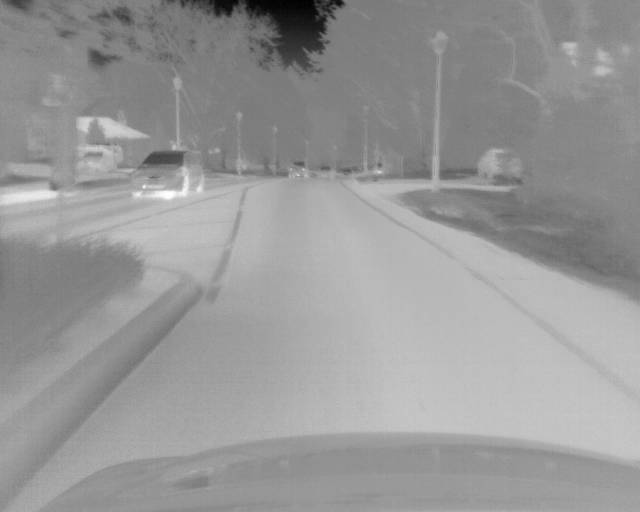car: (123, 148, 205, 198), (477, 147, 523, 181), (287, 160, 305, 179)
